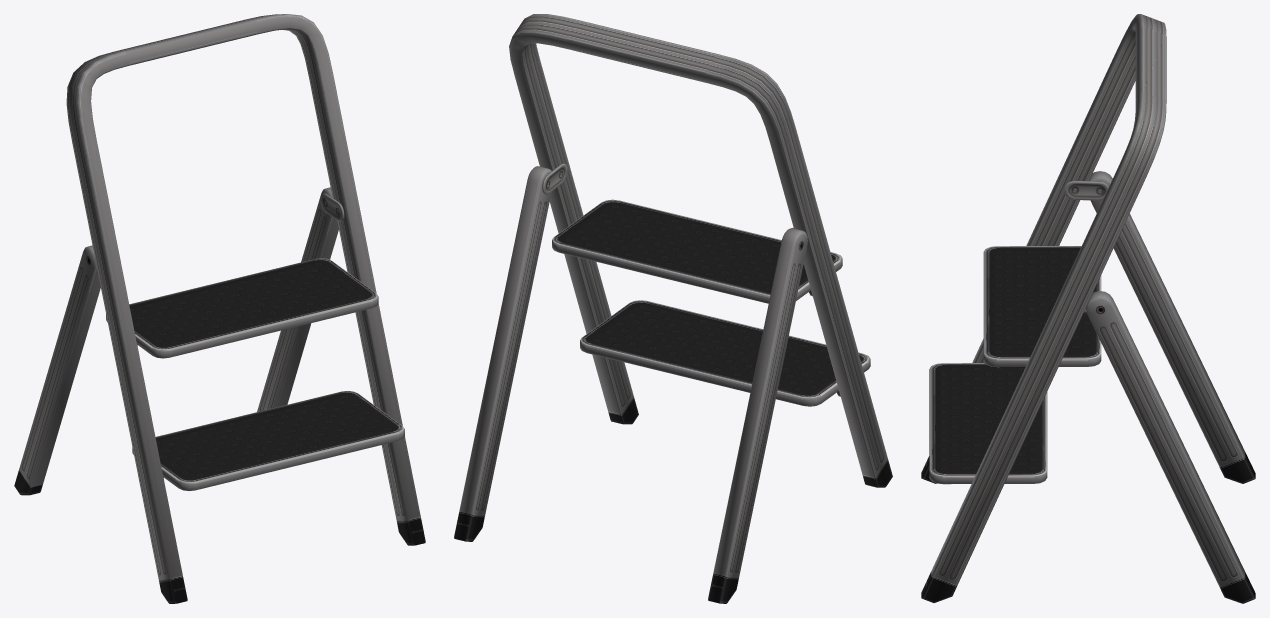
The model's file is stepladder.dae.
The picture shows the model from 3 angles, left to right: view 1: azimuth 30°, elevation 25°; view 2: azimuth 150°, elevation 25°; view 3: azimuth 270°, elevation 25°; orthographic projection. The views are drawn at different scales.
Visible parts, largest first — view 1: polySurface67; view 2: polySurface67; view 3: polySurface67.
Part boxes in pixels (x1,y1,x2,y2): polySurface67: (14, 14, 425, 603); polySurface67: (454, 14, 892, 603); polySurface67: (921, 14, 1255, 603).
Size of the model in its own units: 0.9083 by 1.61 by 1.02.
1 material, 1 textured.
